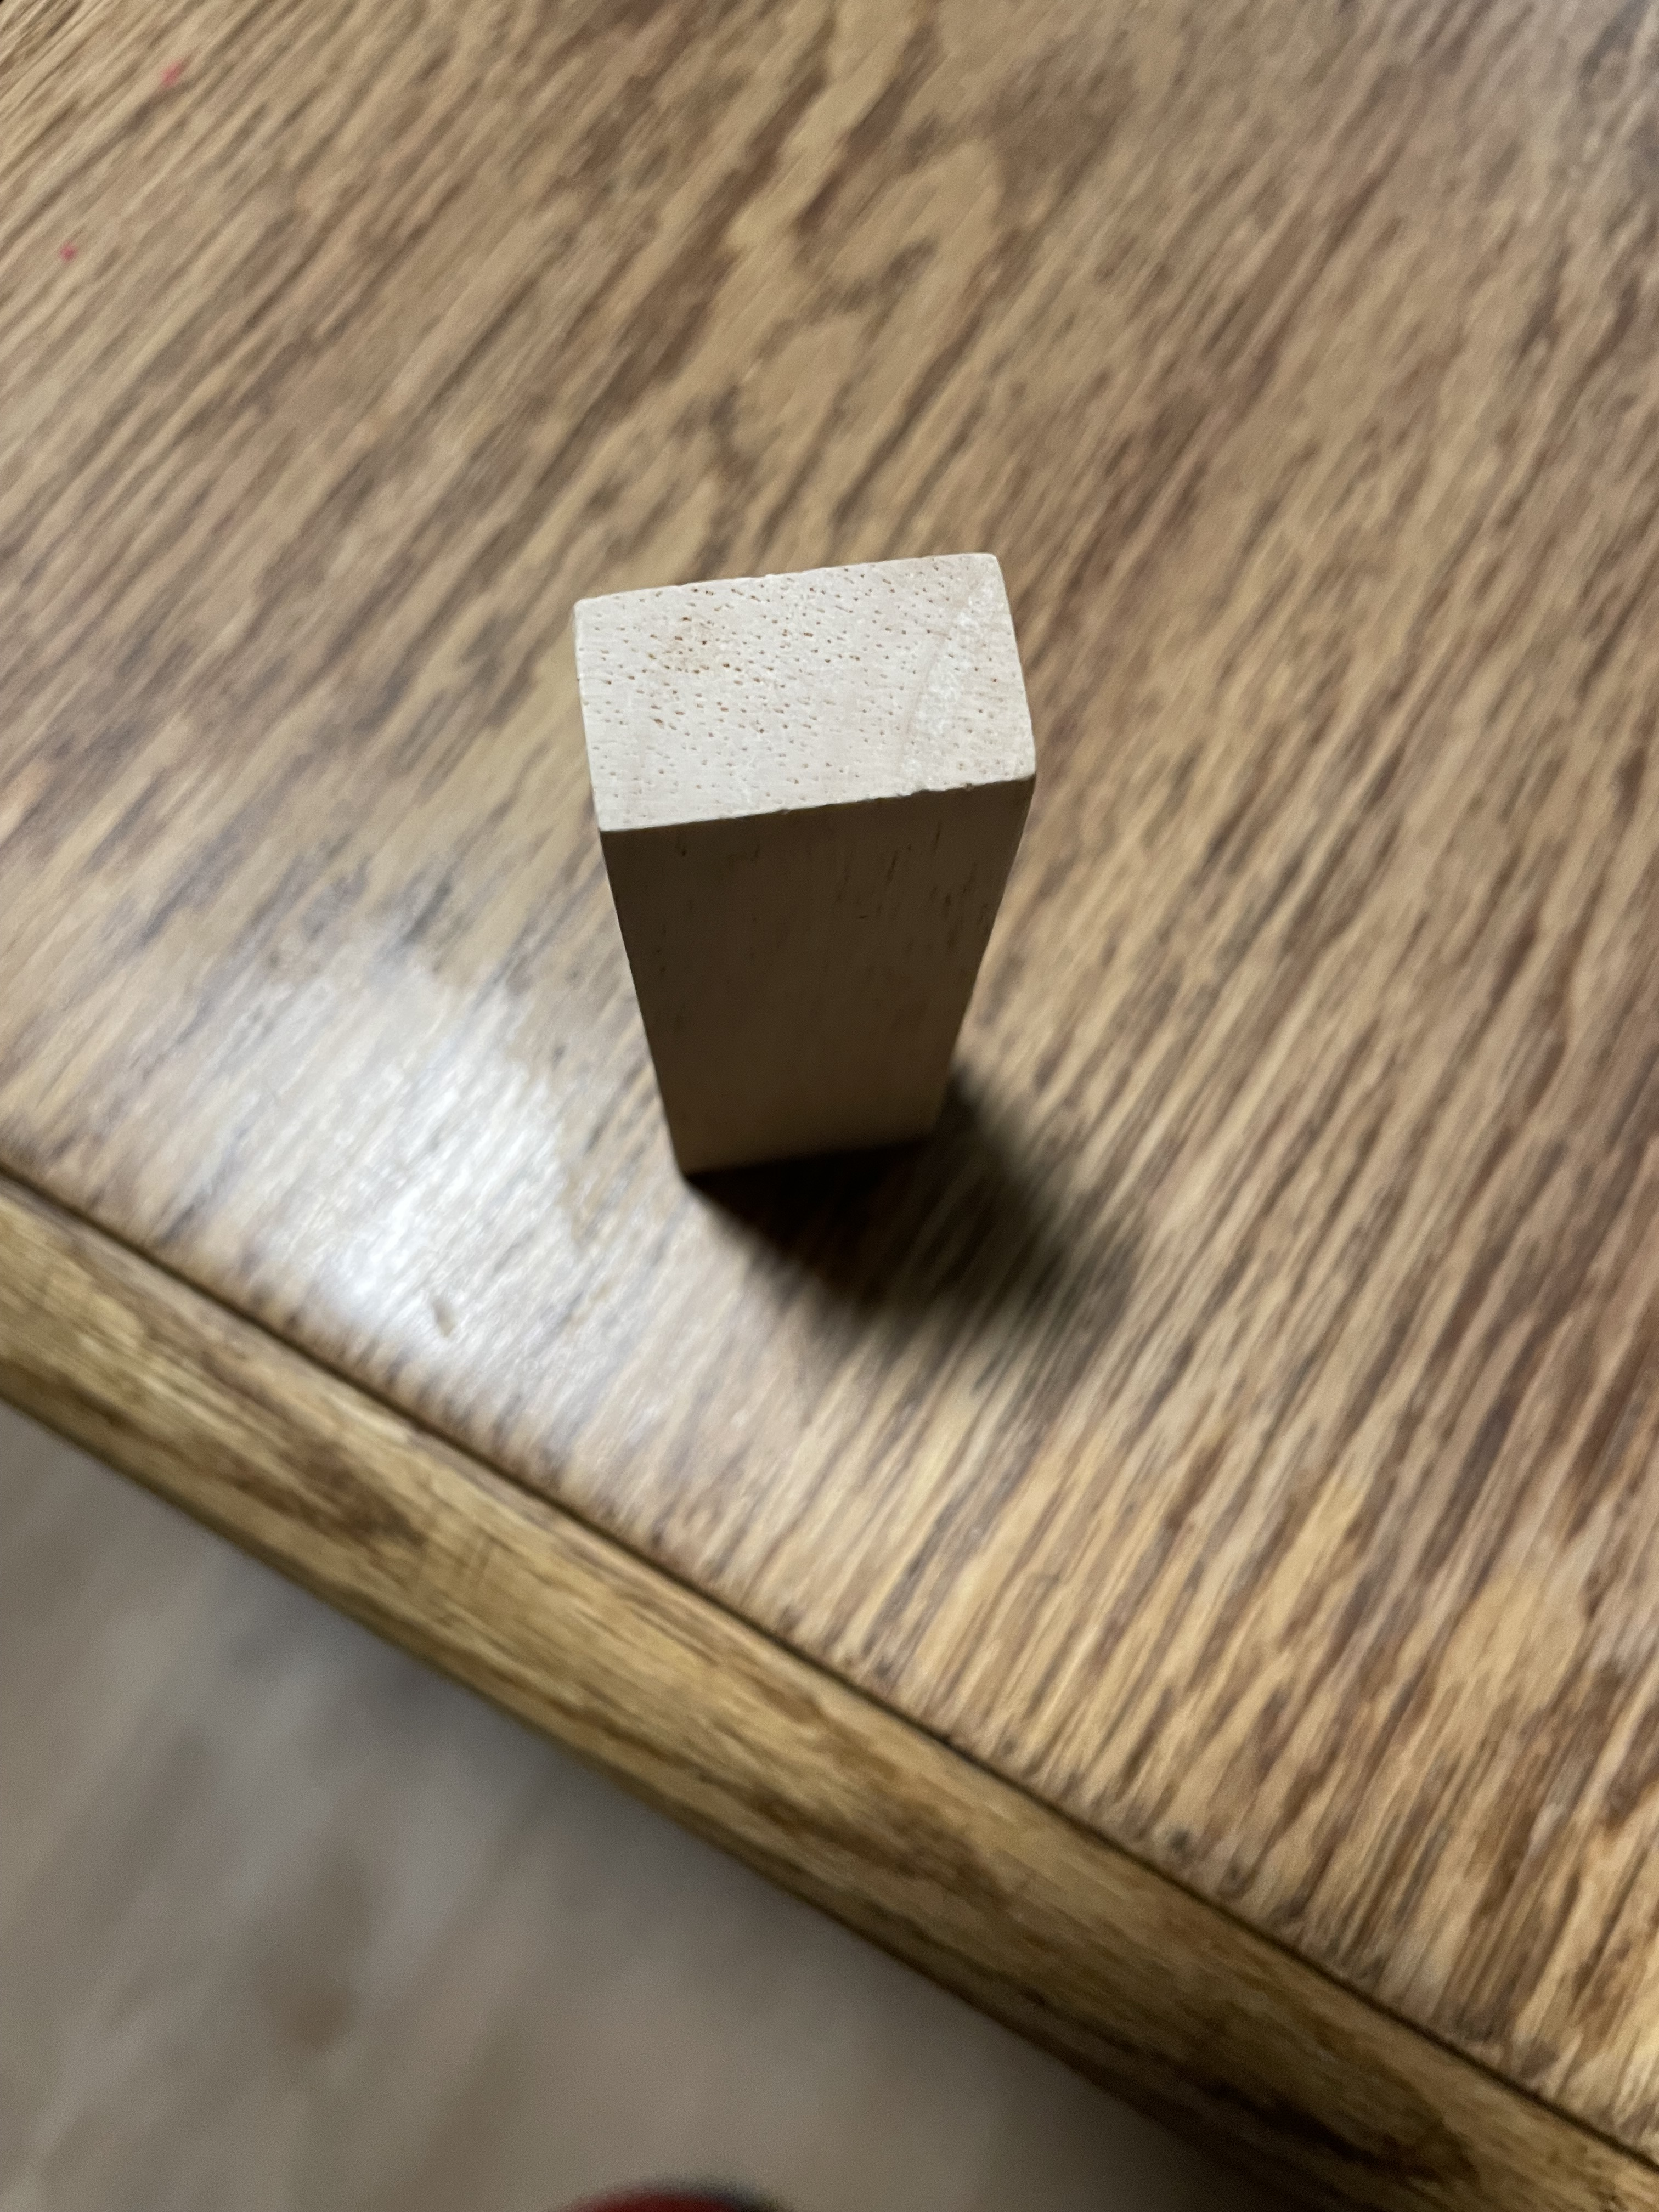jenga: (572, 554, 1040, 1177)
